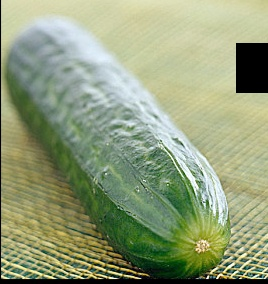cucumber: (3, 17, 230, 277)
